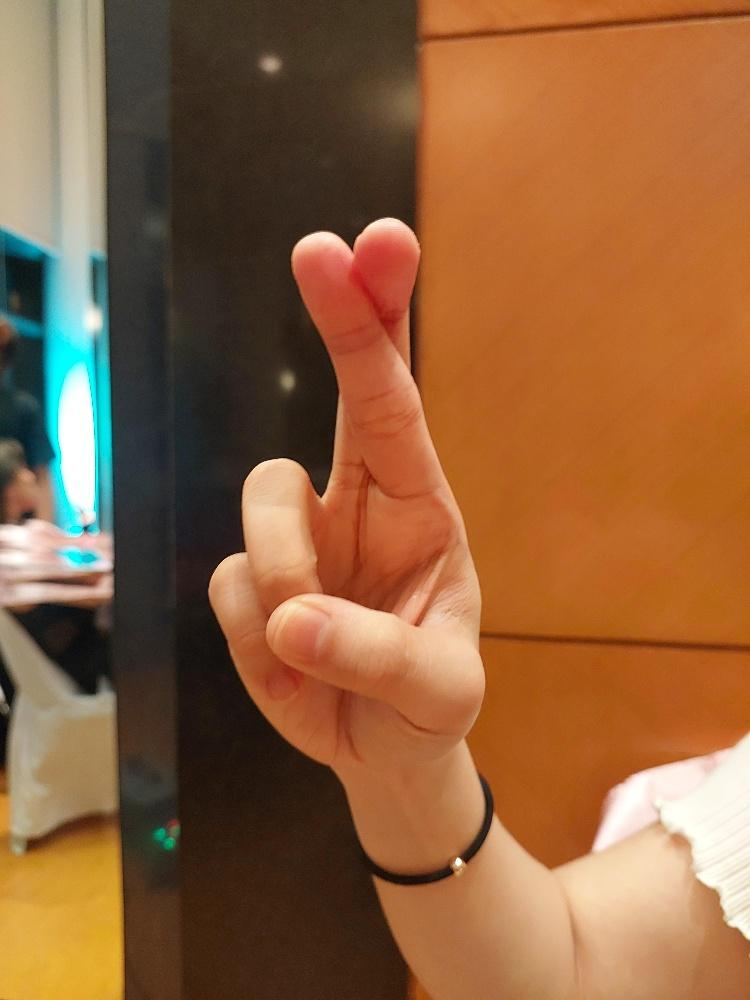r: (204, 214, 489, 773)
